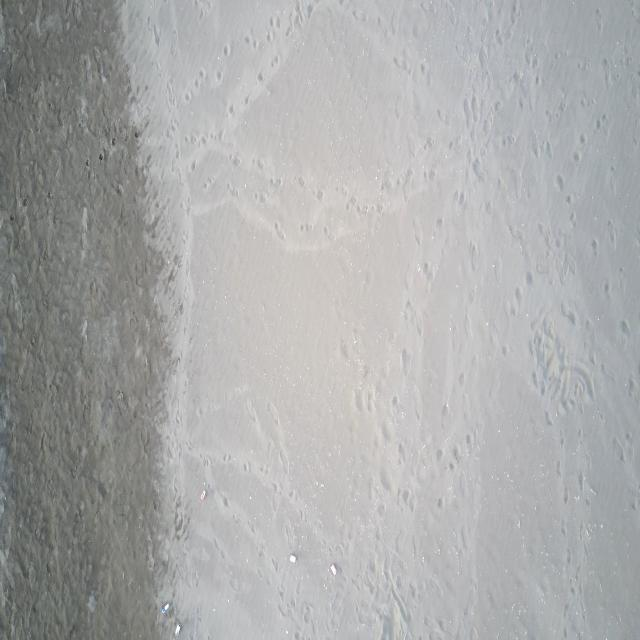tin-and-aluminum-cans: (329, 563, 338, 576), (161, 602, 170, 614), (174, 624, 182, 636), (289, 554, 297, 564), (200, 490, 207, 500)
